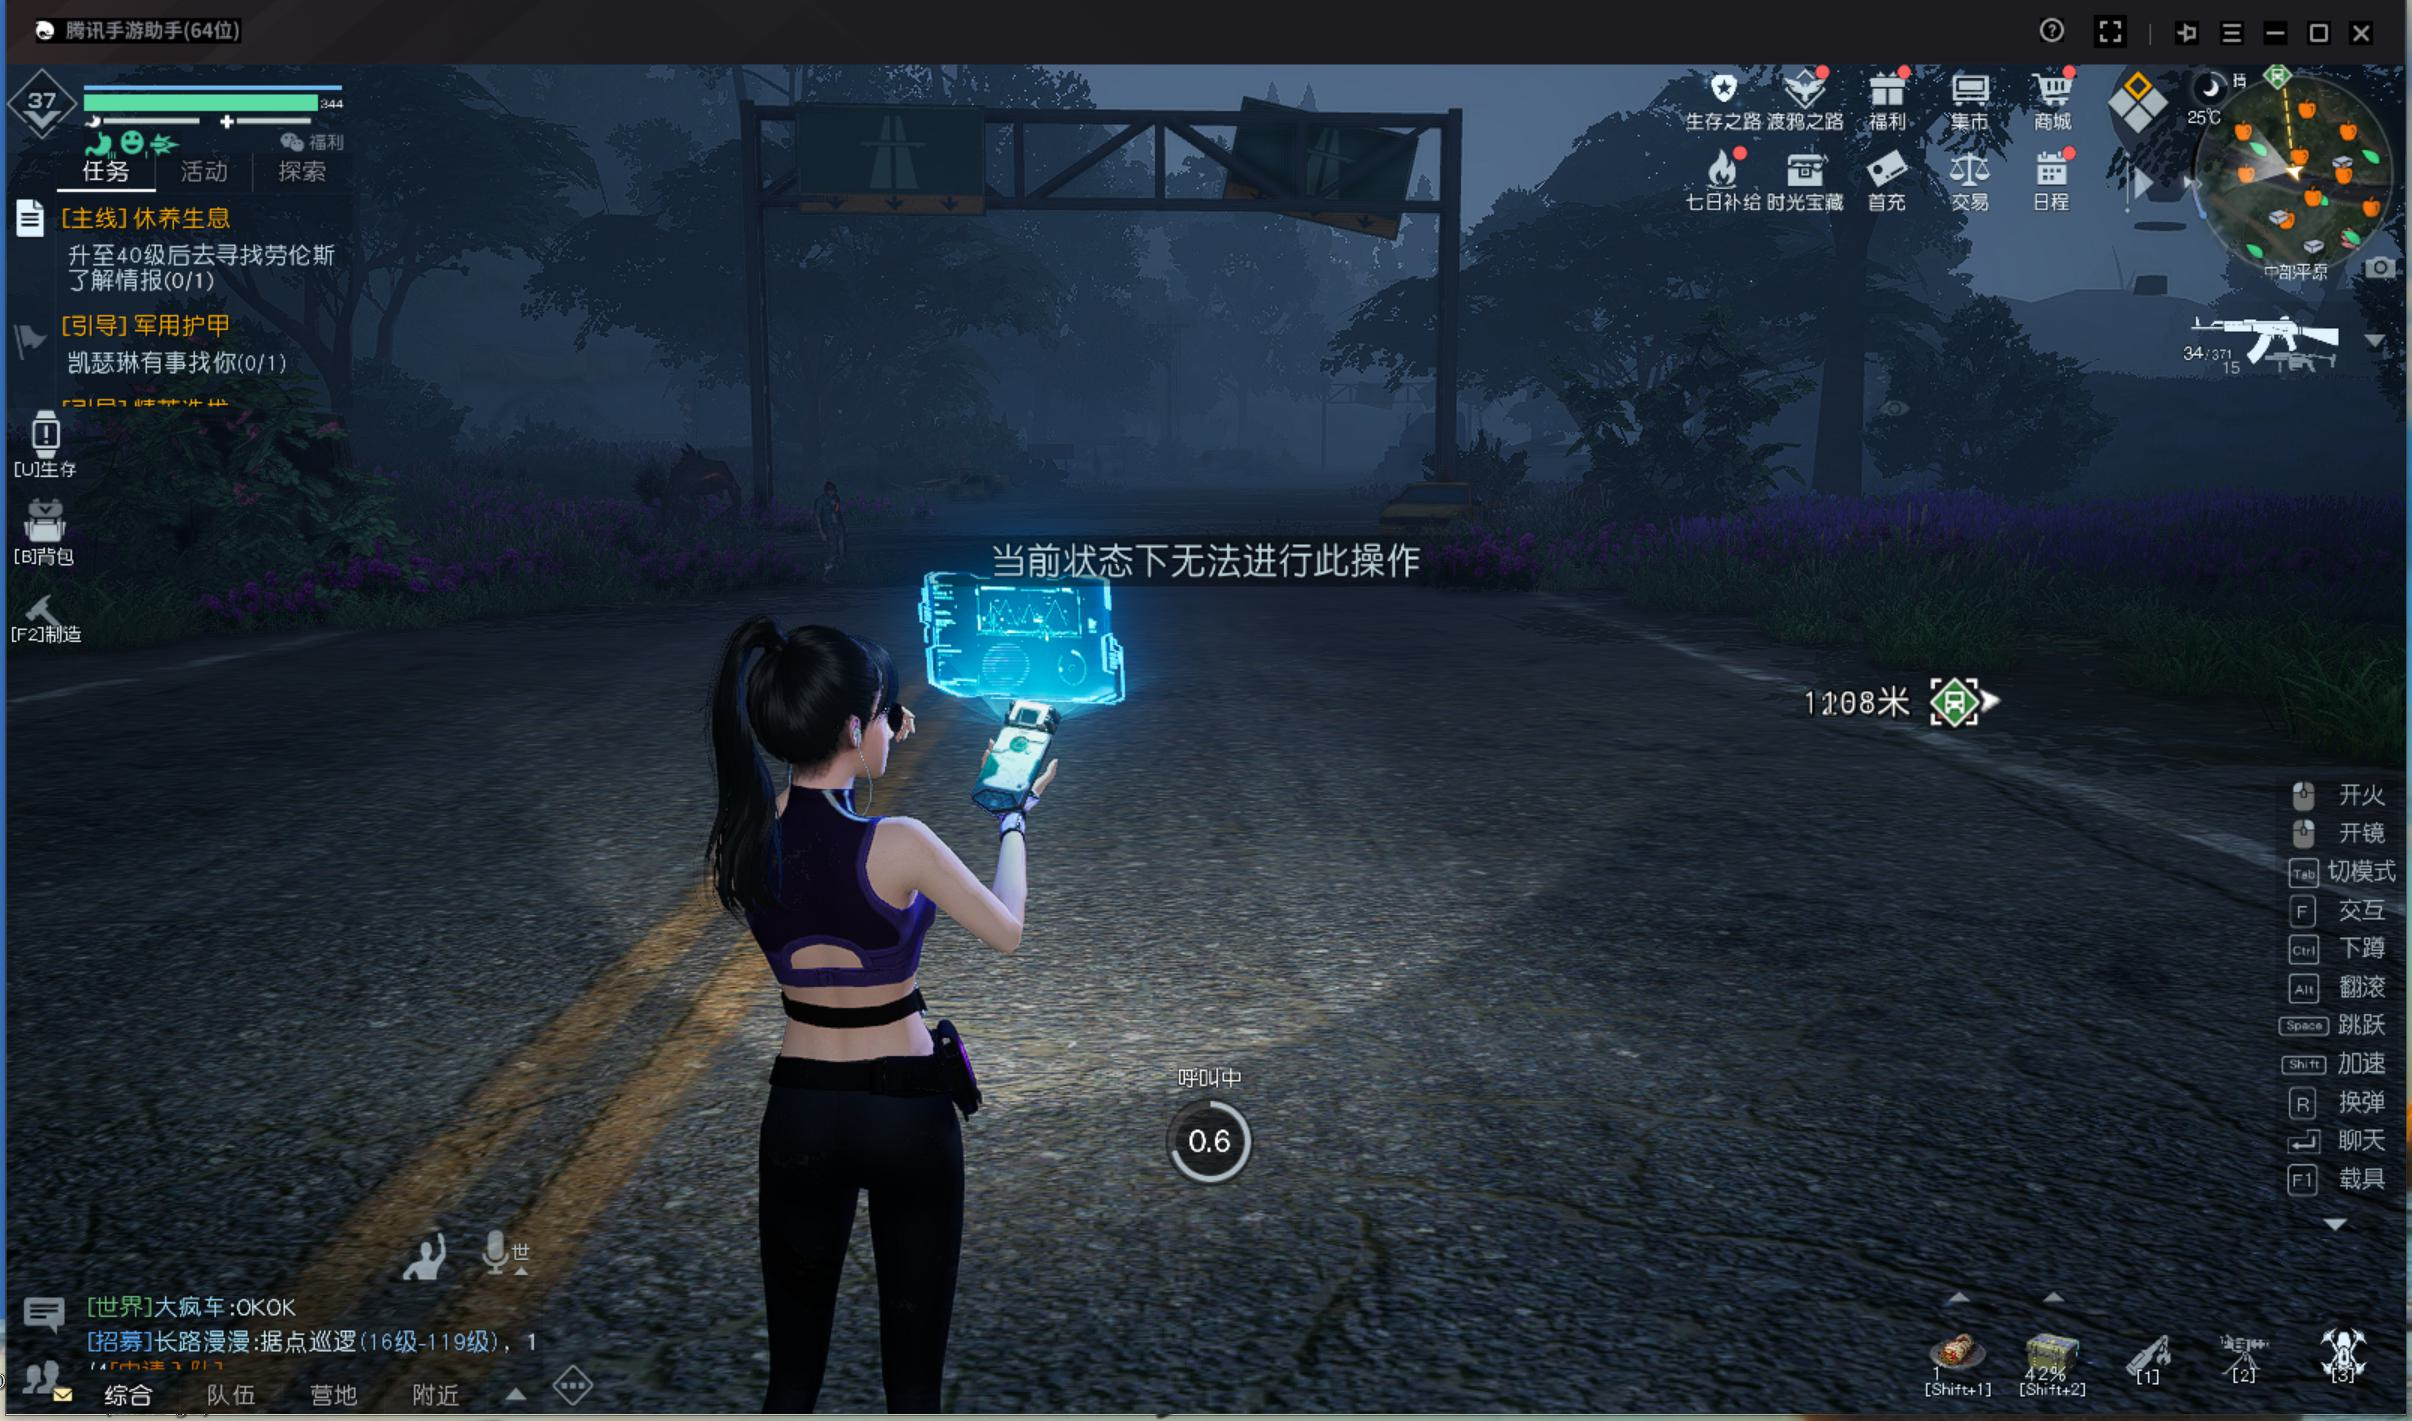tree: (1803, 294, 1866, 489)
